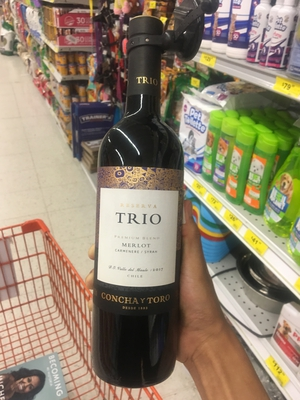trio merlot: (86, 25, 186, 384)
